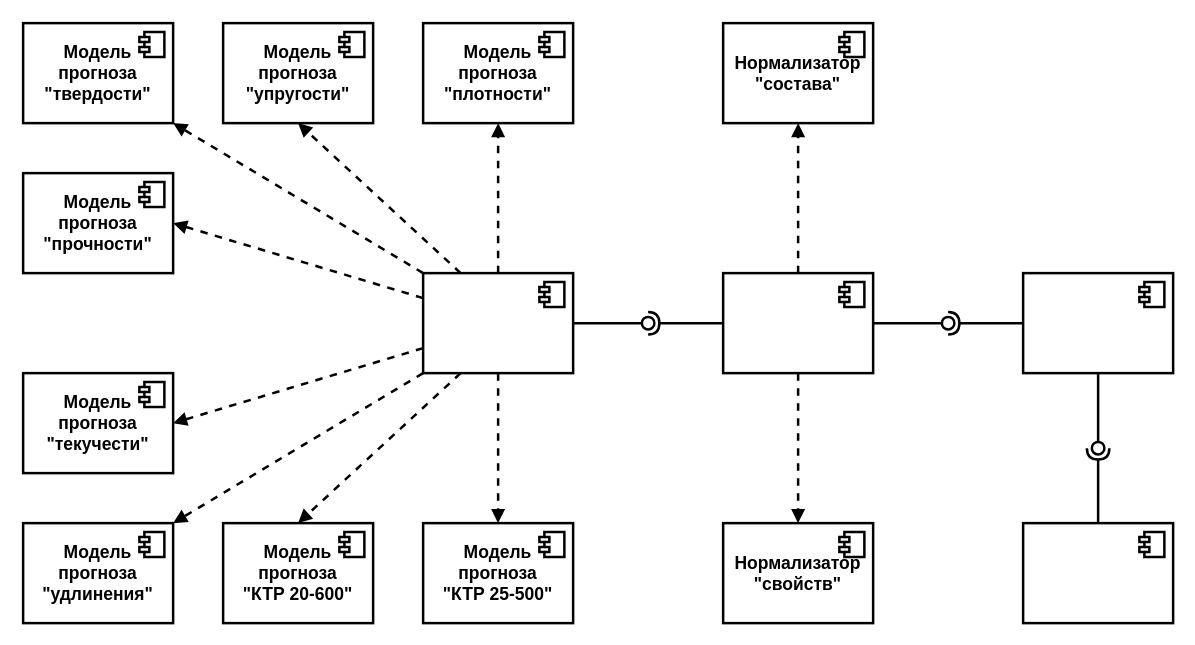
This 1195x645 diagram has some shape labels left out. Each missing label, with the centre of its shape:
"Ансамбль" goes at pixel 497 322.
"Интерфейс" goes at pixel 1097 322.
"Нормализаторы" goes at pixel 797 322.
"Пользователь" goes at pixel 1097 572.
